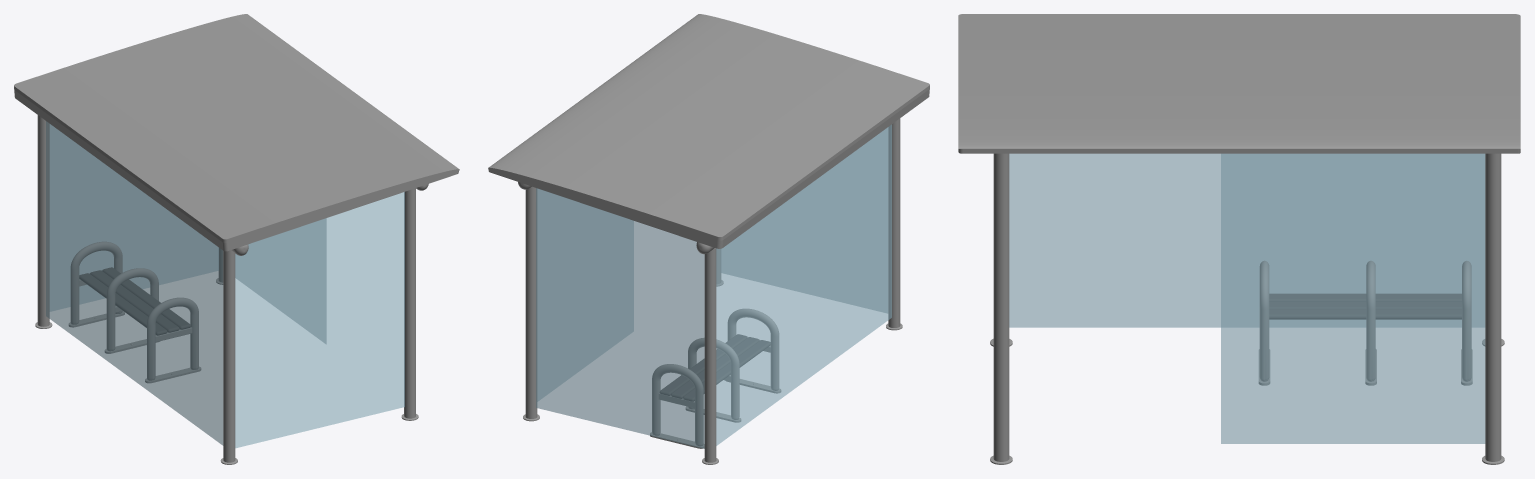
The model's file is busshelter.fbx.
3 views of the same model, side by side, from view 1: azimuth 30°, elevation 25°; view 2: azimuth 150°, elevation 25°; view 3: azimuth 270°, elevation 25° (orthographic). The views are drawn at different scales.
Parts seen in each view (by area): view 1: busshelter, bench; view 2: busshelter, bench; view 3: busshelter, bench.
Boxes of the visible parts, x1,y1,x2,y2 form: busshelter: [14, 14, 459, 464]; bench: [69, 242, 200, 382]; busshelter: [488, 14, 929, 464]; bench: [650, 309, 780, 448]; busshelter: [958, 14, 1520, 464]; bench: [1259, 261, 1472, 385].
Size of the model in its own units: 296 by 304 by 461.
